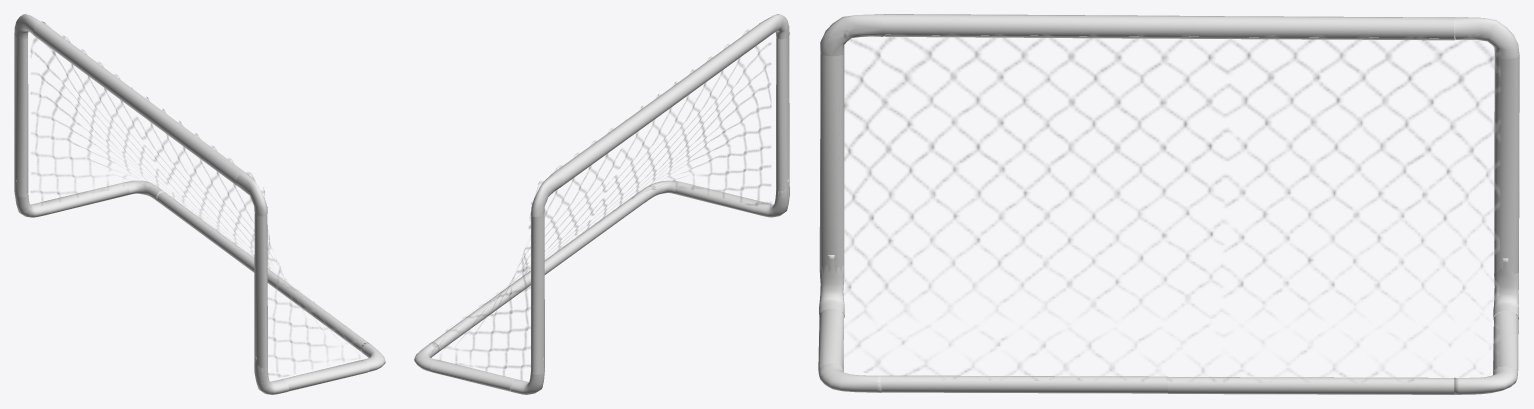
File: goal.glb
3 views of the same model, side by side, from view 1: azimuth 30°, elevation 25°; view 2: azimuth 150°, elevation 25°; view 3: azimuth 270°, elevation 25° (orthographic). The views are drawn at different scales.
Visible parts, largest first — view 1: goal_bar, goal.001; view 2: goal_bar, goal.001; view 3: goal.001, goal_bar.
Boxes of the visible parts, box(x1,y1,x2,y2) form: goal_bar: box(14, 14, 385, 394); goal.001: box(30, 21, 364, 377); goal_bar: box(414, 14, 789, 394); goal.001: box(432, 29, 771, 379); goal.001: box(843, 30, 1500, 382); goal_bar: box(818, 14, 1519, 394).
Bounding box in the file's own units: 1.16 × 1.7 × 3.68.
2 materials, 1 textured.
